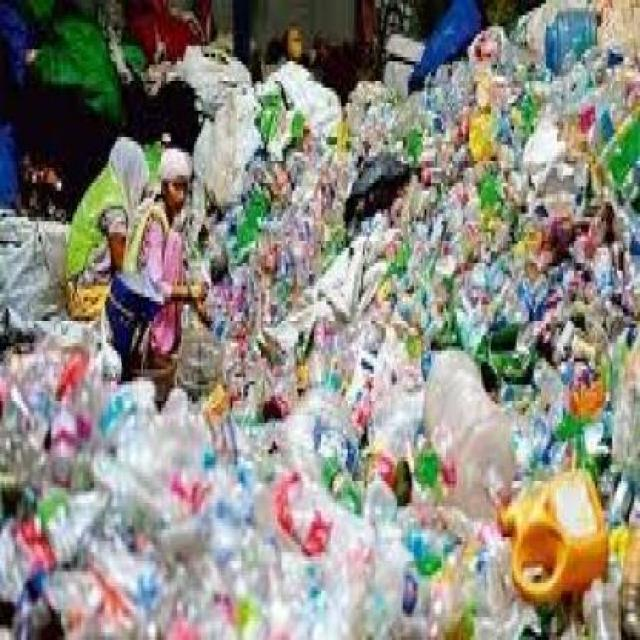garbage: (231, 397, 638, 637), (0, 343, 226, 636), (245, 92, 634, 218), (208, 214, 581, 343), (231, 351, 638, 396), (434, 13, 636, 93), (585, 225, 636, 344)
